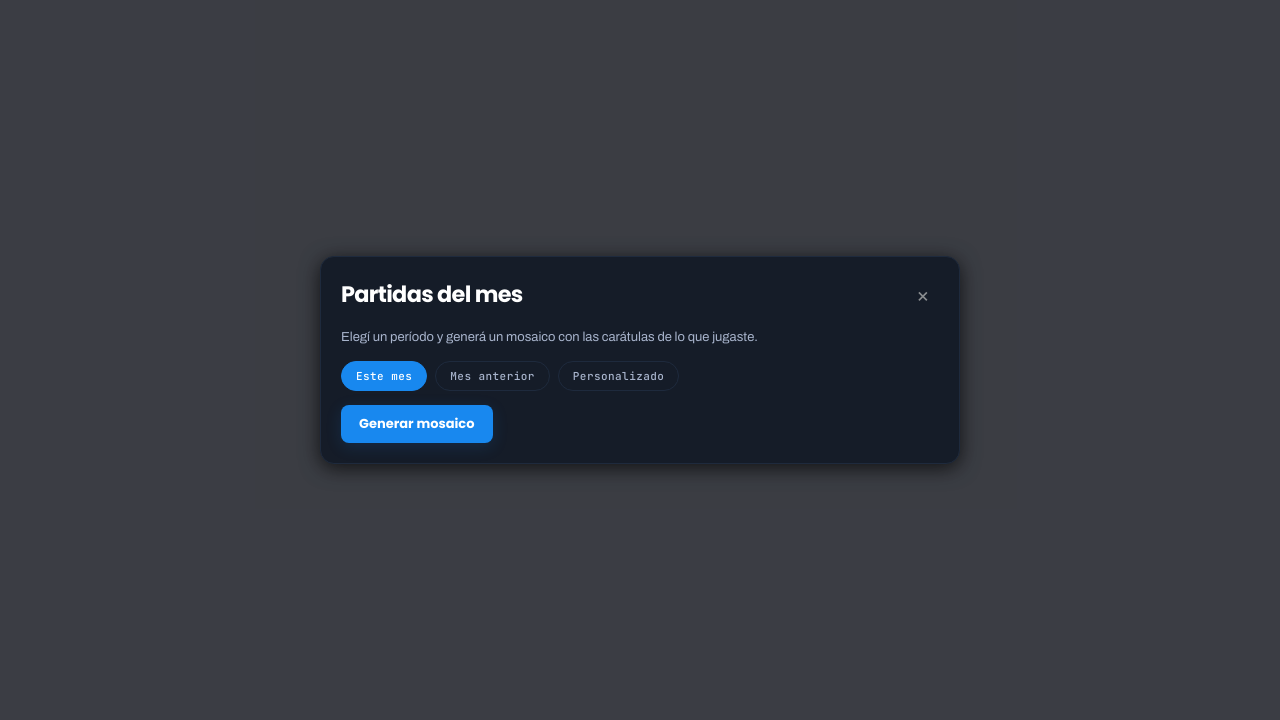
Test: <MonthlyRecapModal> › switching to 'Personalizado' shows two date pickers and disables generate until both are set
Click the button "Personalizado".
click(619, 376)  # box x1=558 y1=361 x2=679 y2=391
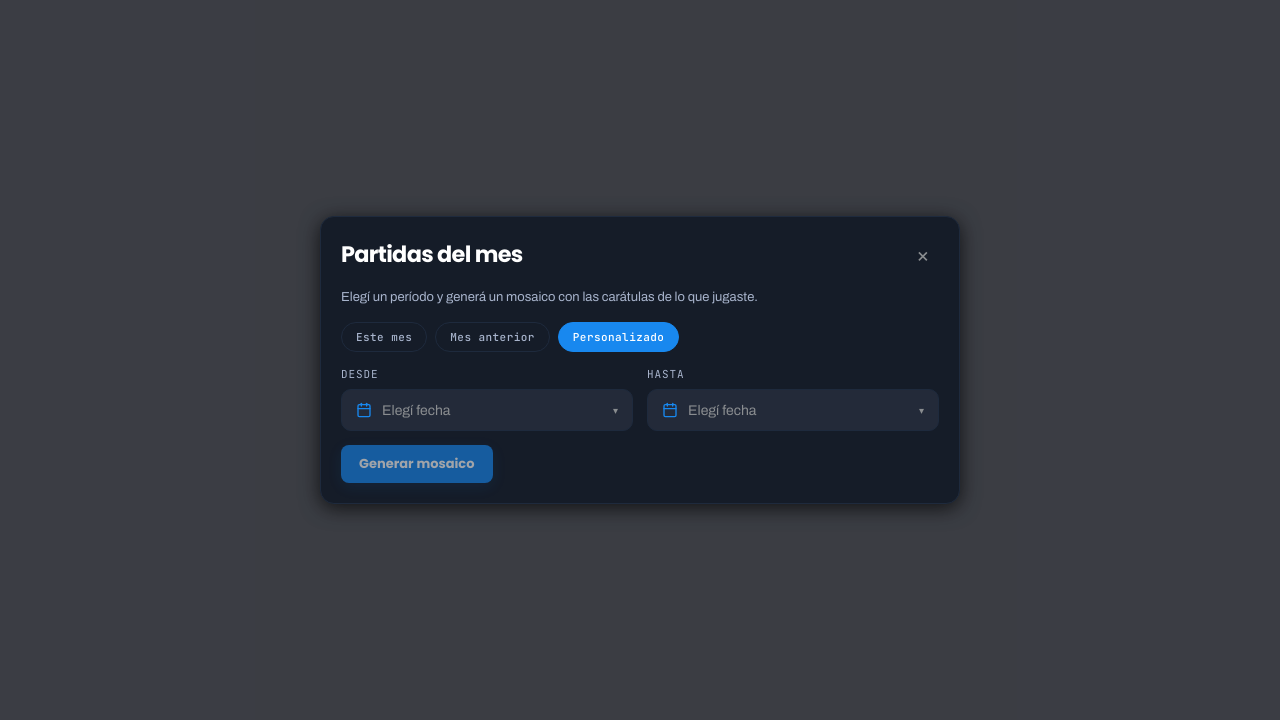
Check: the text "Desde" is shown, box x1=341 y1=366 x2=378 y2=380
Check: the text "Hasta" is shown, box x1=647 y1=366 x2=684 y2=380
Check: the button "Generar mosaico" is disabled, box x1=341 y1=445 x2=492 y2=483
